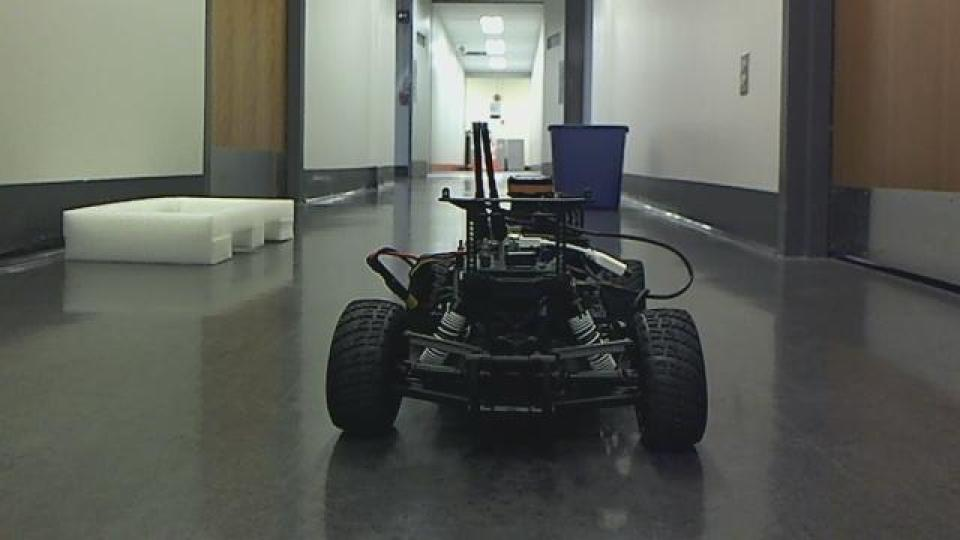car: (316, 112, 712, 461)
